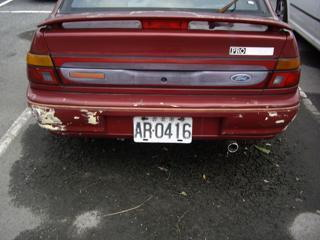plate: (132, 114, 193, 145)
